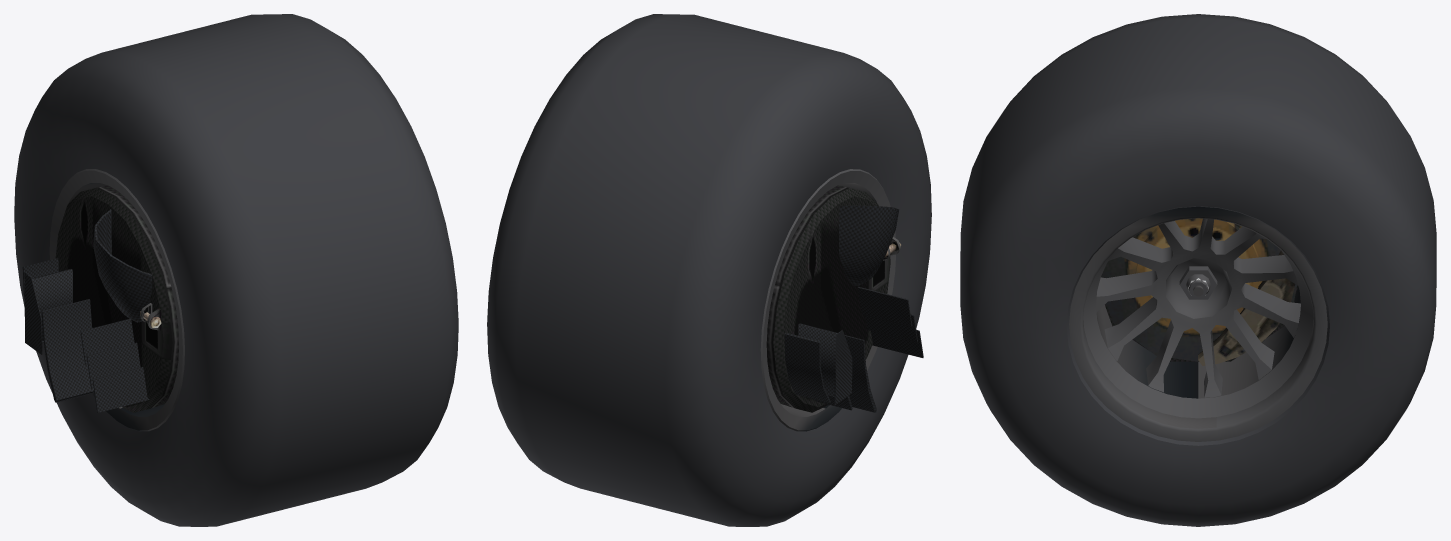
Rendered from front_right.obj.
3 renders of one model, left to right at view 1: azimuth 30°, elevation 25°; view 2: azimuth 150°, elevation 25°; view 3: azimuth 270°, elevation 25°, orthographic. The views are drawn at different scales.
Parts seen in each view (by area): view 1: object__50_006-mesh, object__49_006-mesh, object__28_007-mesh, object__18_006-mesh; view 2: object__50_006-mesh, object__49_006-mesh, object__28_007-mesh, object__18_006-mesh; view 3: object__49_006-mesh, object__50_006-mesh, object__18_006-mesh, object__38_007-mesh, object__28_007-mesh.
Boxes of the visible parts, box(x1,y1,x2,y2) form: object__50_006-mesh: box(35, 14, 458, 526); object__49_006-mesh: box(14, 77, 239, 517); object__28_007-mesh: box(22, 185, 178, 412); object__18_006-mesh: box(49, 169, 184, 431); object__50_006-mesh: box(487, 14, 909, 526); object__49_006-mesh: box(705, 77, 931, 517); object__28_007-mesh: box(766, 185, 923, 412); object__18_006-mesh: box(760, 169, 895, 431); object__49_006-mesh: box(979, 123, 1416, 521); object__50_006-mesh: box(960, 14, 1436, 526); object__18_006-mesh: box(1069, 206, 1327, 441); object__38_007-mesh: box(1101, 218, 1296, 361); object__28_007-mesh: box(1105, 250, 1298, 365).
Size of the model in its own units: 4.55 by 6.42 by 6.4.
4 materials, 4 textured.
